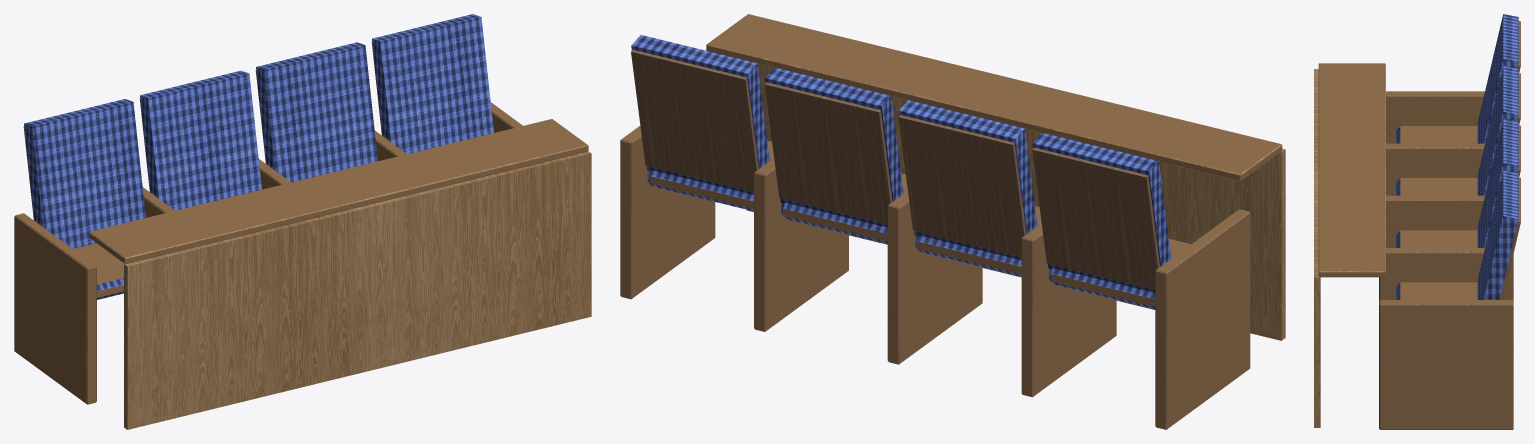
File: lecture_seating.glb
3 views of the same model, side by side, from view 1: azimuth 30°, elevation 25°; view 2: azimuth 150°, elevation 25°; view 3: azimuth 270°, elevation 25° (orthographic). The views are drawn at different scales.
Visible parts, largest first — view 1: lecture_seating; view 2: lecture_seating; view 3: lecture_seating.
Part boxes in pixels (x1,y1,x2,y2): lecture_seating: [14, 14, 591, 429]; lecture_seating: [620, 14, 1285, 429]; lecture_seating: [1314, 14, 1520, 429].
Size of the model in its own units: 2.25 by 1.03 by 0.9218.
Materials: 3 (3 with a texture image).
